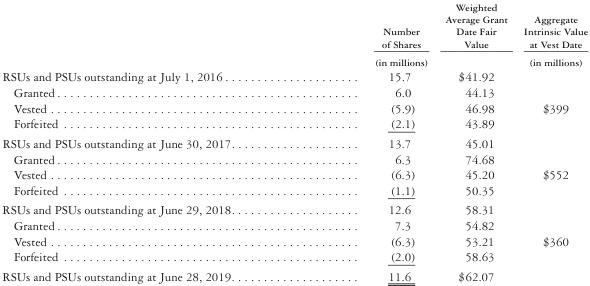table: (1, 0, 587, 283)
table column: (1, 0, 304, 283), (304, 0, 435, 283), (435, 0, 514, 283), (514, 0, 587, 283)
table column header: (1, 0, 587, 68)
table row: (1, 0, 587, 68), (1, 115, 587, 133), (1, 199, 587, 217), (1, 248, 587, 266), (1, 133, 587, 150), (1, 182, 587, 199), (1, 266, 587, 283), (1, 68, 587, 84), (1, 84, 587, 100), (1, 150, 587, 166), (1, 166, 587, 182), (1, 217, 587, 233), (1, 100, 587, 115), (1, 233, 587, 248)
